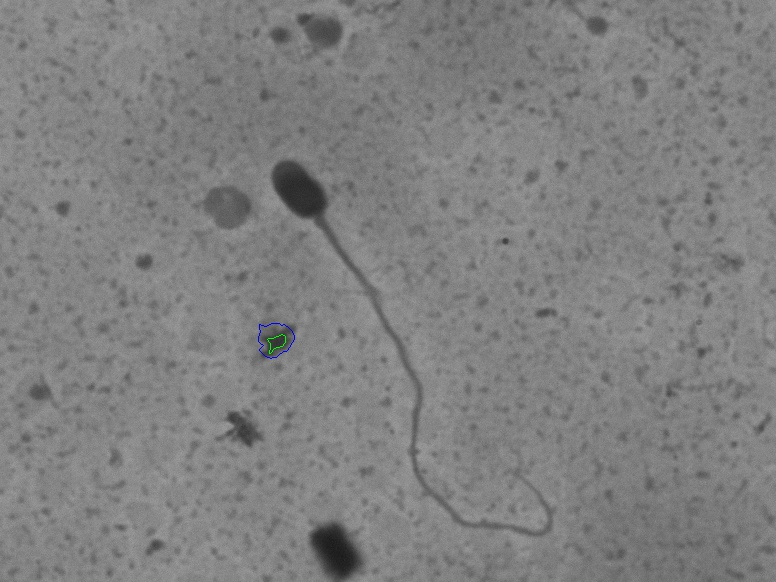Abnormal: (261, 124, 581, 546)
